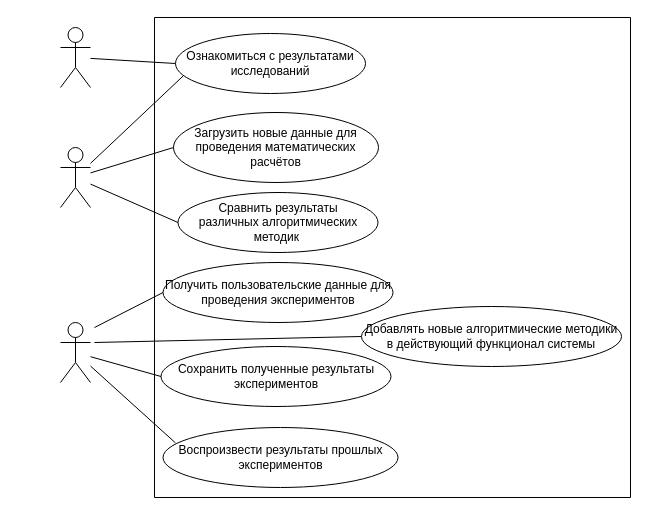
Image size: 648x515. Some labels were removed from this diagram. Each missing label, with the box of its shape:
Аналитик: (60, 146, 90, 208)
Исследователь: (60, 322, 90, 382)
Технический эксперт: (60, 26, 90, 88)
